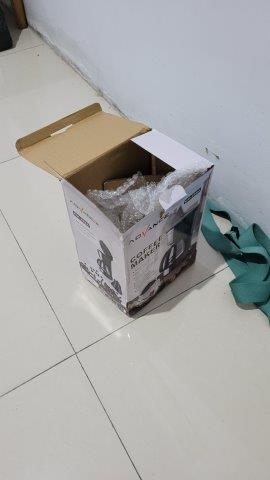kardus: (15, 103, 215, 317)
